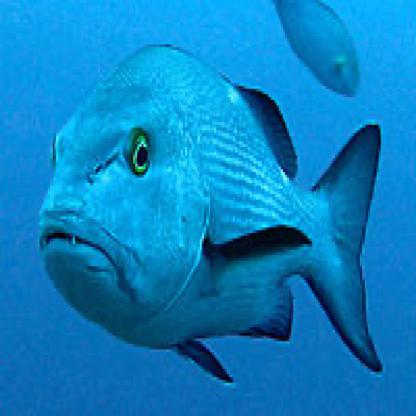snapper: (28, 29, 386, 384)
